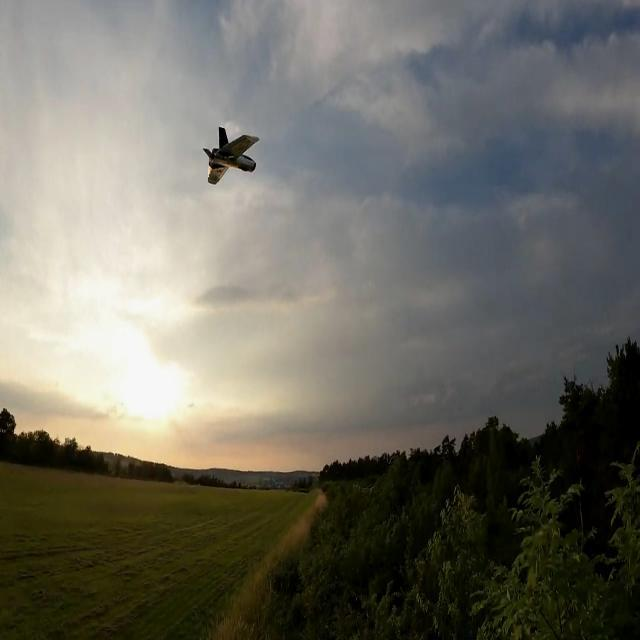iha: (227, 154, 231, 157)
